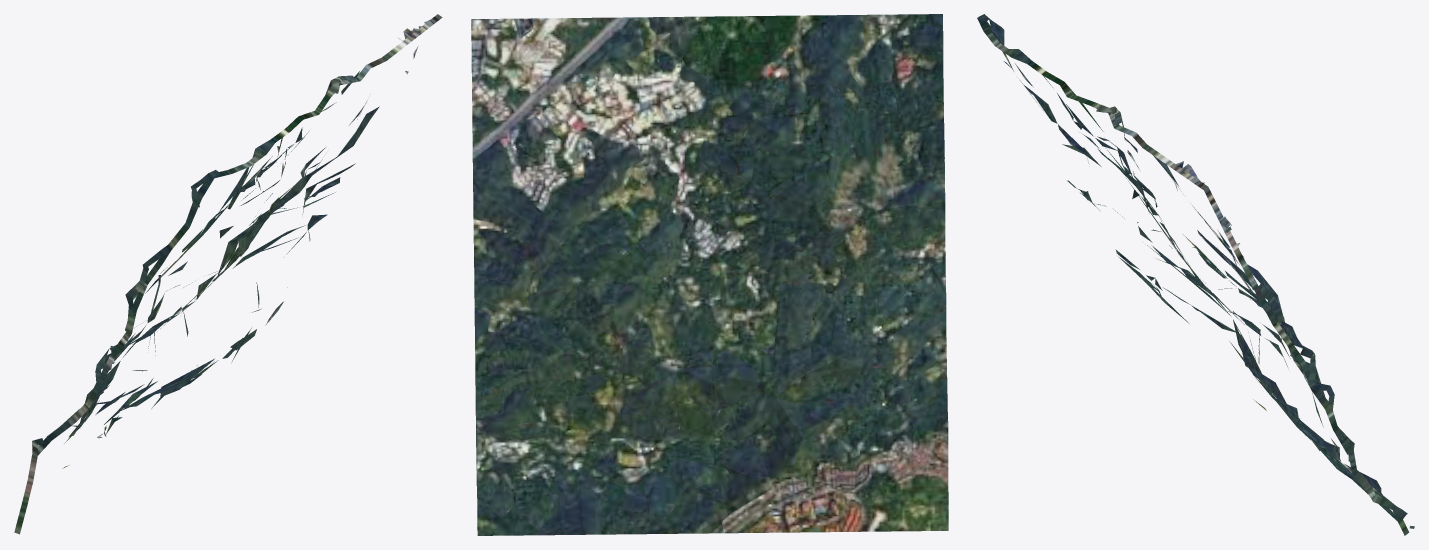
3 renders of one model, left to right at view 1: azimuth 30°, elevation 25°; view 2: azimuth 150°, elevation 25°; view 3: azimuth 270°, elevation 25°, orthographic. The views are drawn at different scales.
Size of the model in its own units: 2511 by 2196 by 2145.
1 material, 1 textured.
